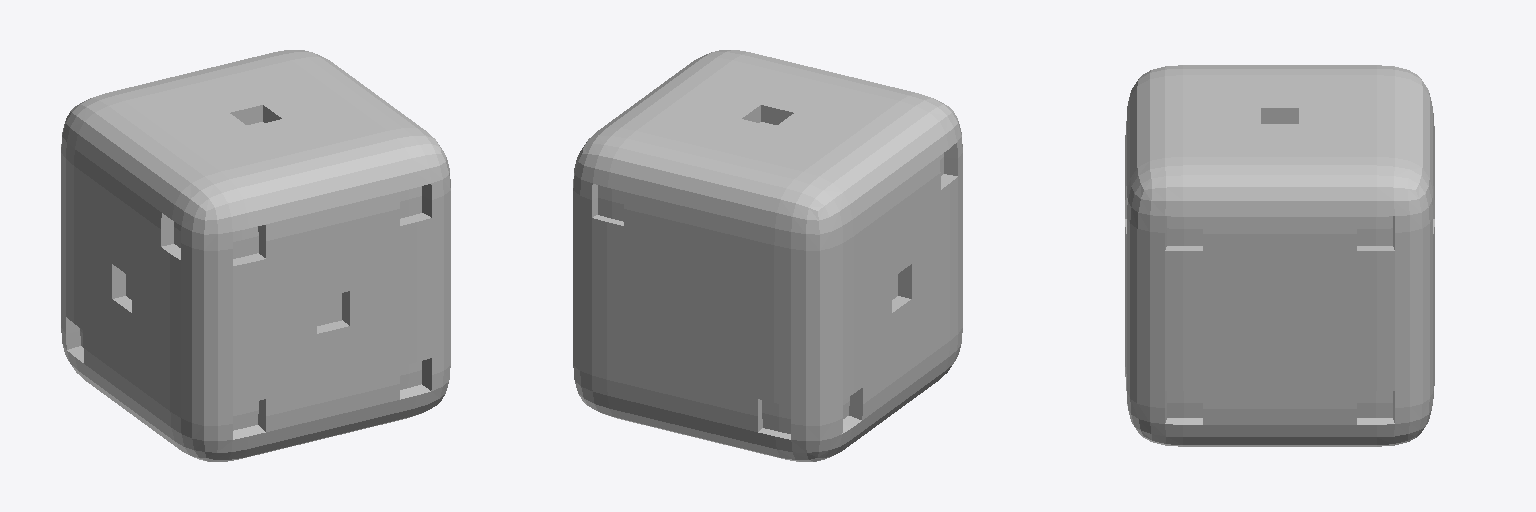
Rendered from dice.obj.
3 renders of one model, left to right at view 1: azimuth 30°, elevation 25°; view 2: azimuth 150°, elevation 25°; view 3: azimuth 270°, elevation 25°, orthographic.
Parts seen in each view (by area): view 1: dice.obj; view 2: dice.obj; view 3: dice.obj.
Boxes of the visible parts, x1=… form: dice.obj: x1=61, y1=50, x2=450, y2=461; dice.obj: x1=573, y1=50, x2=962, y2=461; dice.obj: x1=1125, y1=65, x2=1434, y2=446.
Size of the model in its own units: 5 by 5 by 5.